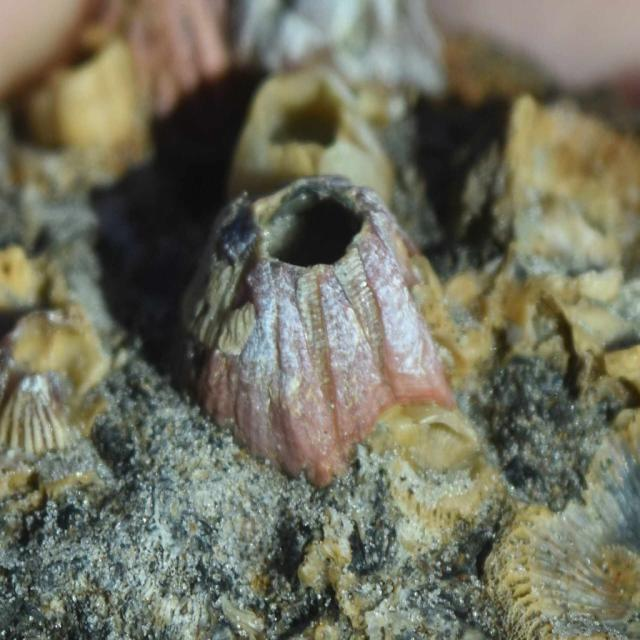barnacles: (194, 174, 447, 477), (219, 47, 384, 187)
